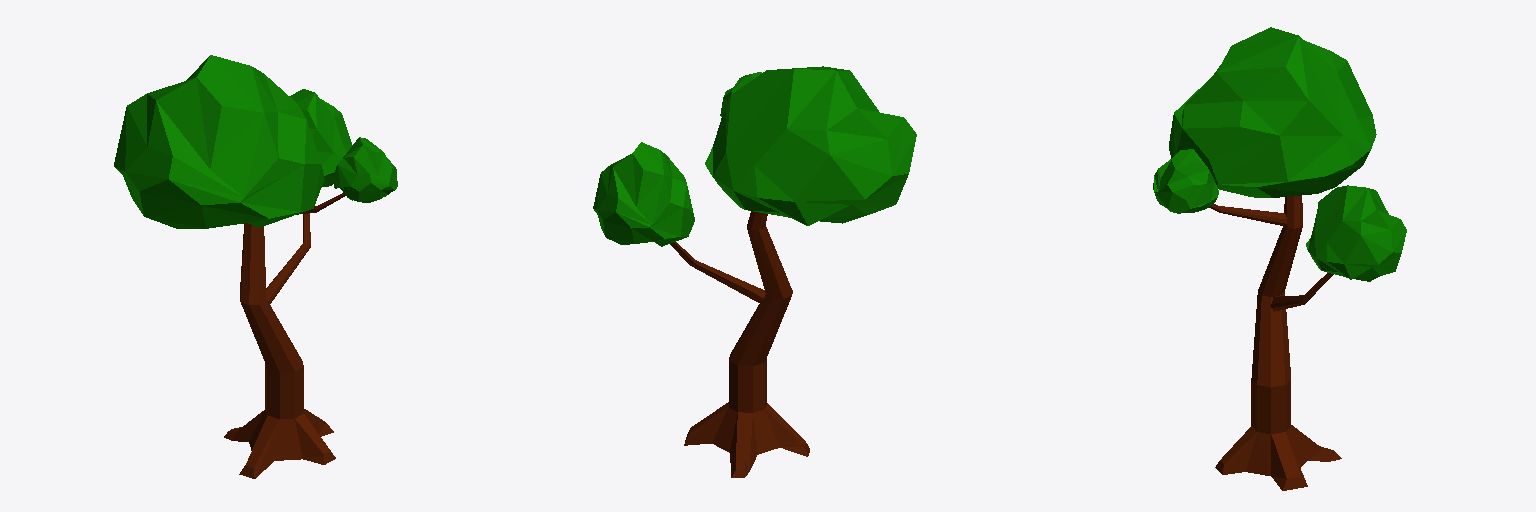
Rendered from tree.obj.
3 renders of one model, left to right at view 1: azimuth 30°, elevation 25°; view 2: azimuth 150°, elevation 25°; view 3: azimuth 270°, elevation 25°, orthographic.
Parts seen in each view (by area): view 1: piccolo2_Untitled, Cylinder_Untitled.001, piccolo_1_Untitled.002, piccolo_Untitled.003; view 2: piccolo2_Untitled, Cylinder_Untitled.001, piccolo_Untitled.003; view 3: piccolo2_Untitled, Cylinder_Untitled.001, piccolo_Untitled.003, piccolo_1_Untitled.002.
Boxes of the visible parts, <box> form: piccolo2_Untitled: <box>114,55,324,228</box>; Cylinder_Untitled.001: <box>224,193,345,478</box>; piccolo_1_Untitled.002: <box>333,137,397,202</box>; piccolo_Untitled.003: <box>289,89,352,186</box>; piccolo2_Untitled: <box>705,66,916,225</box>; Cylinder_Untitled.001: <box>670,211,809,477</box>; piccolo_Untitled.003: <box>593,142,694,246</box>; piccolo2_Untitled: <box>1169,27,1376,197</box>; Cylinder_Untitled.001: <box>1209,195,1341,490</box>; piccolo_Untitled.003: <box>1306,185,1406,281</box>; piccolo_1_Untitled.002: <box>1153,149,1218,213</box>.
Bounding box in the file's own units: 7.45 × 11.2 × 6.36.